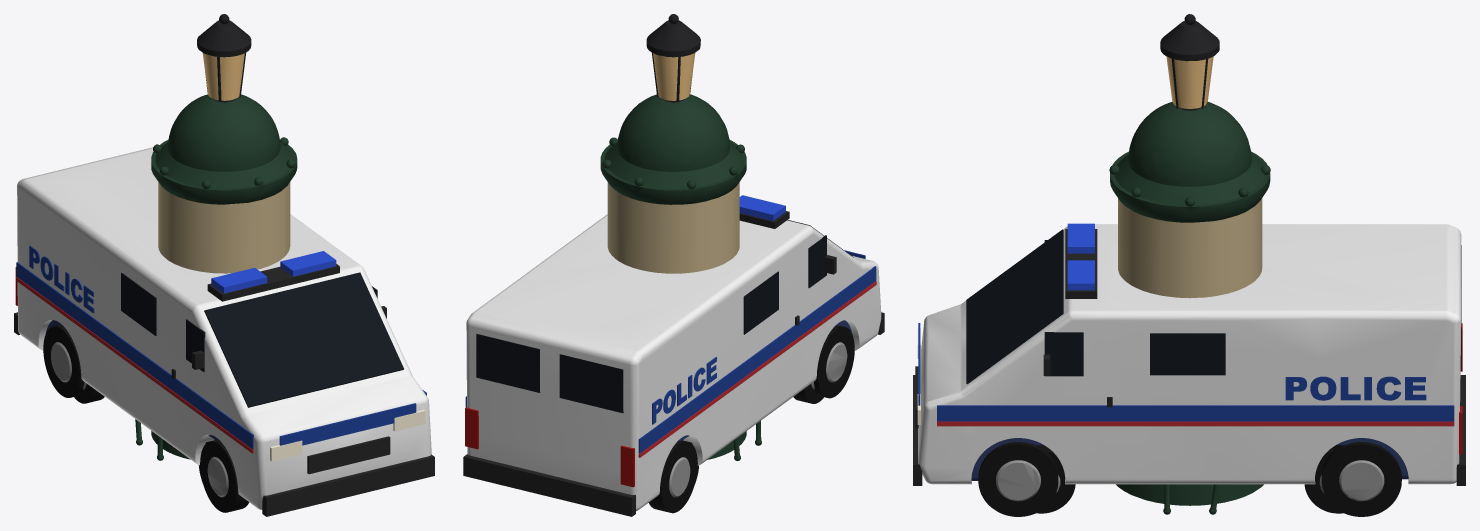
Rendered from fusion_props.glb.
The picture shows the model from 3 angles, left to right: view 1: azimuth 30°, elevation 25°; view 2: azimuth 150°, elevation 25°; view 3: azimuth 270°, elevation 25°; orthographic projection. The views are drawn at different scales.
Visible parts, largest first — view 1: van_paint_white, van_glass, morrisColumn_iron_green, morrisColumn_poster, van_trim, van_stripe_blue, van_tyre, lamppost_iron, van_lightbar, lamppost_glass_lamp, van_hub, van_stripe_red (+1 smaller); view 2: van_paint_white, morrisColumn_iron_green, morrisColumn_poster, van_glass, van_stripe_blue, van_trim, van_tyre, lamppost_iron, lamppost_glass_lamp, van_hub, van_stripe_red, van_light_red (+1 smaller); view 3: van_paint_white, morrisColumn_iron_green, van_glass, van_stripe_blue, morrisColumn_poster, van_tyre, van_stripe_red, van_hub, van_trim, lamppost_iron, lamppost_glass_lamp, van_lightbar (+2 smaller).
Boxes of the visible parts, x1,y1,x2,y2 form: van_paint_white: (17, 147, 431, 509); van_glass: (121, 272, 403, 407); morrisColumn_iron_green: (151, 94, 297, 459); morrisColumn_poster: (158, 182, 290, 273); van_trim: (14, 264, 434, 516); van_stripe_blue: (16, 245, 426, 449); van_tyre: (43, 325, 249, 512); lamppost_iron: (197, 14, 251, 102); van_lightbar: (211, 251, 336, 293); lamppost_glass_lamp: (202, 53, 244, 100); van_hub: (51, 342, 228, 497); van_stripe_red: (16, 277, 253, 453); van_paint_white: (466, 214, 881, 511); morrisColumn_iron_green: (600, 94, 746, 459); morrisColumn_poster: (607, 182, 739, 273); van_glass: (476, 220, 853, 413); van_stripe_blue: (465, 250, 876, 453); van_trim: (463, 211, 884, 516); van_tyre: (649, 325, 854, 513); lamppost_iron: (646, 14, 700, 102); lamppost_glass_lamp: (653, 53, 695, 100); van_hub: (669, 342, 847, 497); van_stripe_red: (638, 281, 876, 457); van_light_red: (465, 407, 634, 487); van_paint_white: (918, 224, 1461, 484); morrisColumn_iron_green: (1109, 102, 1270, 505); van_glass: (966, 229, 1461, 384); van_stripe_blue: (918, 323, 1454, 421); morrisColumn_poster: (1118, 198, 1262, 298); van_tyre: (978, 442, 1401, 516); van_stripe_red: (937, 421, 1454, 426); van_hub: (996, 460, 1384, 501); van_trim: (913, 229, 1465, 485); lamppost_iron: (1160, 14, 1219, 110); lamppost_glass_lamp: (1166, 56, 1213, 108); van_lightbar: (1067, 223, 1094, 290).
Size of the model in its own units: 2.12 by 4.43 by 4.83.
